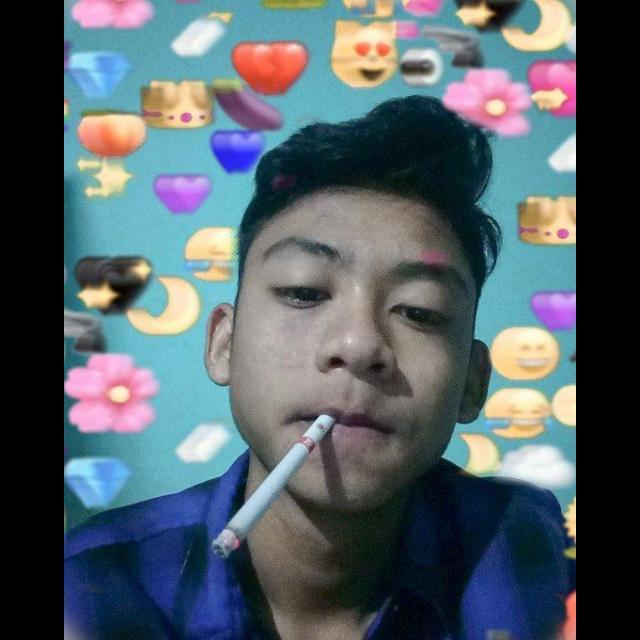rokok: (198, 406, 338, 558)
